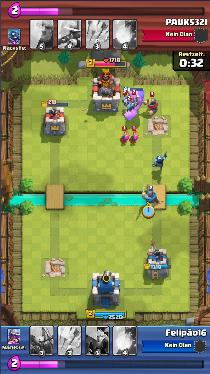ally_giant: (123, 85, 143, 118)
ally_knight: (139, 189, 160, 206)
ally_mini_pekka: (151, 154, 168, 169)
enemy_archer: (130, 131, 140, 144), (120, 130, 129, 143)
enemy_knight: (144, 97, 158, 114)
enemy_minion: (125, 101, 133, 111), (121, 95, 128, 103), (131, 98, 137, 106)
